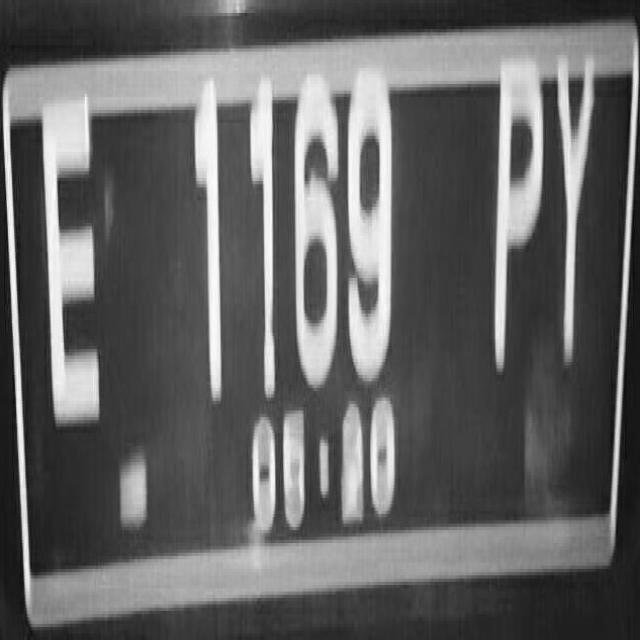1: (190, 73, 238, 407), (245, 70, 292, 398)
6: (293, 68, 339, 397)
9: (341, 63, 396, 384)
E: (31, 90, 130, 438)
P: (491, 61, 546, 374)
Y: (550, 53, 600, 371)
